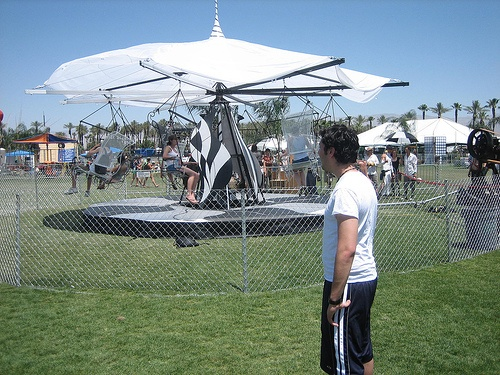head: (318, 124, 359, 173), (166, 134, 179, 149), (403, 145, 412, 158)
person: (314, 118, 381, 375), (160, 134, 201, 201), (61, 142, 110, 193), (401, 144, 418, 200), (377, 148, 391, 197), (135, 157, 158, 186), (365, 147, 377, 191), (261, 147, 272, 184), (388, 146, 399, 181)
